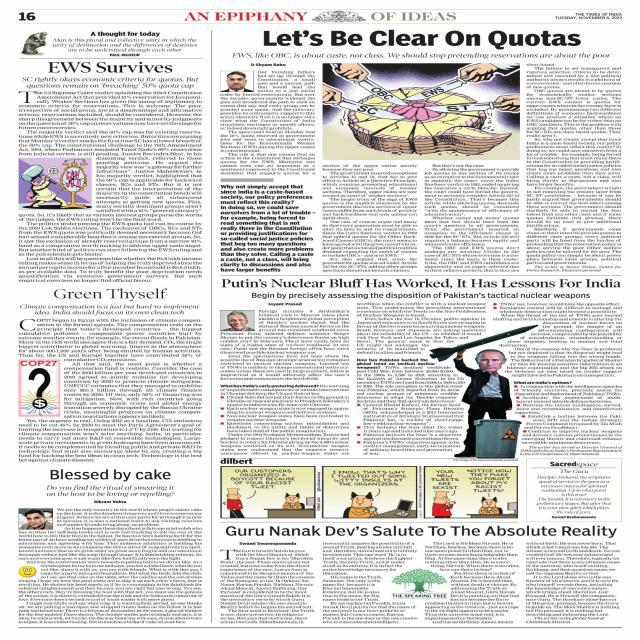Article: (218, 26, 624, 276), (218, 277, 626, 457), (13, 58, 204, 284), (216, 523, 625, 626), (11, 285, 204, 464), (13, 466, 205, 626)
Body: (525, 62, 622, 273), (18, 214, 202, 283), (16, 91, 203, 156), (322, 164, 419, 273), (424, 163, 520, 273), (357, 366, 465, 456), (220, 384, 351, 456), (18, 579, 203, 624), (64, 358, 202, 418), (525, 541, 623, 625), (17, 419, 203, 462), (220, 93, 316, 175), (218, 548, 316, 624), (16, 318, 202, 357), (514, 384, 623, 444), (220, 332, 350, 381), (17, 531, 203, 564), (95, 157, 202, 213), (355, 302, 486, 336), (507, 348, 623, 378), (56, 508, 203, 530), (320, 541, 418, 571), (424, 541, 520, 571), (492, 302, 624, 321), (40, 564, 204, 578), (321, 601, 417, 624), (258, 309, 350, 332), (424, 602, 520, 624), (450, 571, 520, 601), (323, 572, 384, 602), (256, 70, 316, 92), (537, 322, 624, 332), (355, 336, 469, 343), (356, 344, 429, 354), (506, 340, 621, 343), (520, 336, 624, 339), (528, 333, 624, 336), (498, 344, 530, 347)
Date: (554, 16, 622, 20)
Heading: (261, 30, 584, 50), (224, 524, 620, 538), (220, 278, 621, 288), (55, 286, 169, 302), (49, 469, 172, 482), (44, 62, 174, 74)
Highlights: (220, 184, 314, 272), (536, 468, 614, 516), (250, 291, 592, 300), (232, 51, 614, 59), (21, 76, 200, 90), (51, 36, 199, 52), (15, 304, 202, 316), (46, 484, 176, 498), (358, 358, 436, 366), (513, 380, 573, 384)
Image: (323, 64, 520, 160), (322, 466, 417, 518), (221, 466, 315, 518), (425, 466, 518, 518), (466, 348, 506, 459), (18, 157, 91, 210), (18, 359, 61, 416), (390, 574, 447, 598), (220, 309, 255, 332), (18, 508, 53, 530), (220, 71, 254, 92), (22, 30, 48, 56), (18, 565, 37, 577)
Name: (182, 12, 310, 22)
